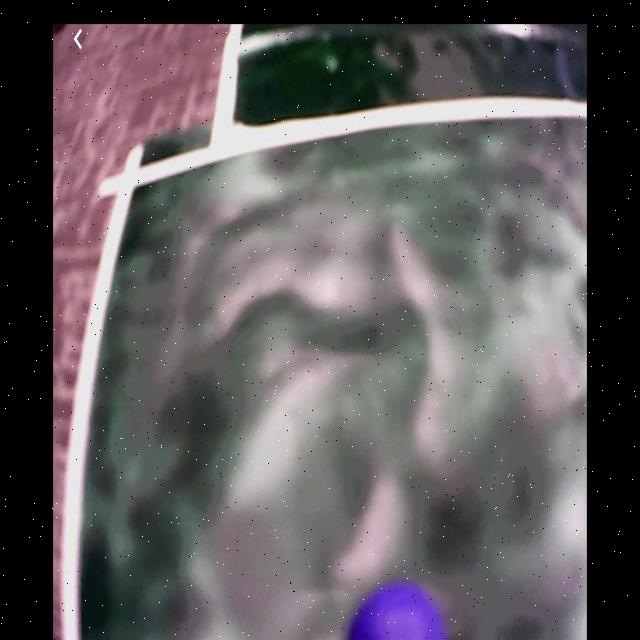ball: (348, 582, 451, 640)
